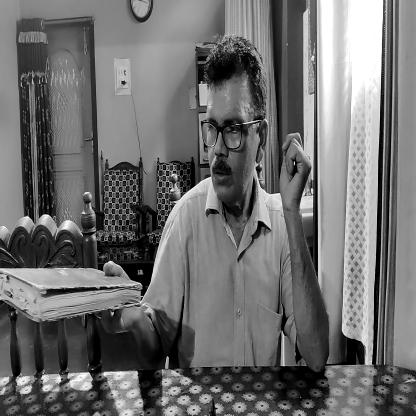Distracted: (196, 39, 264, 218)
